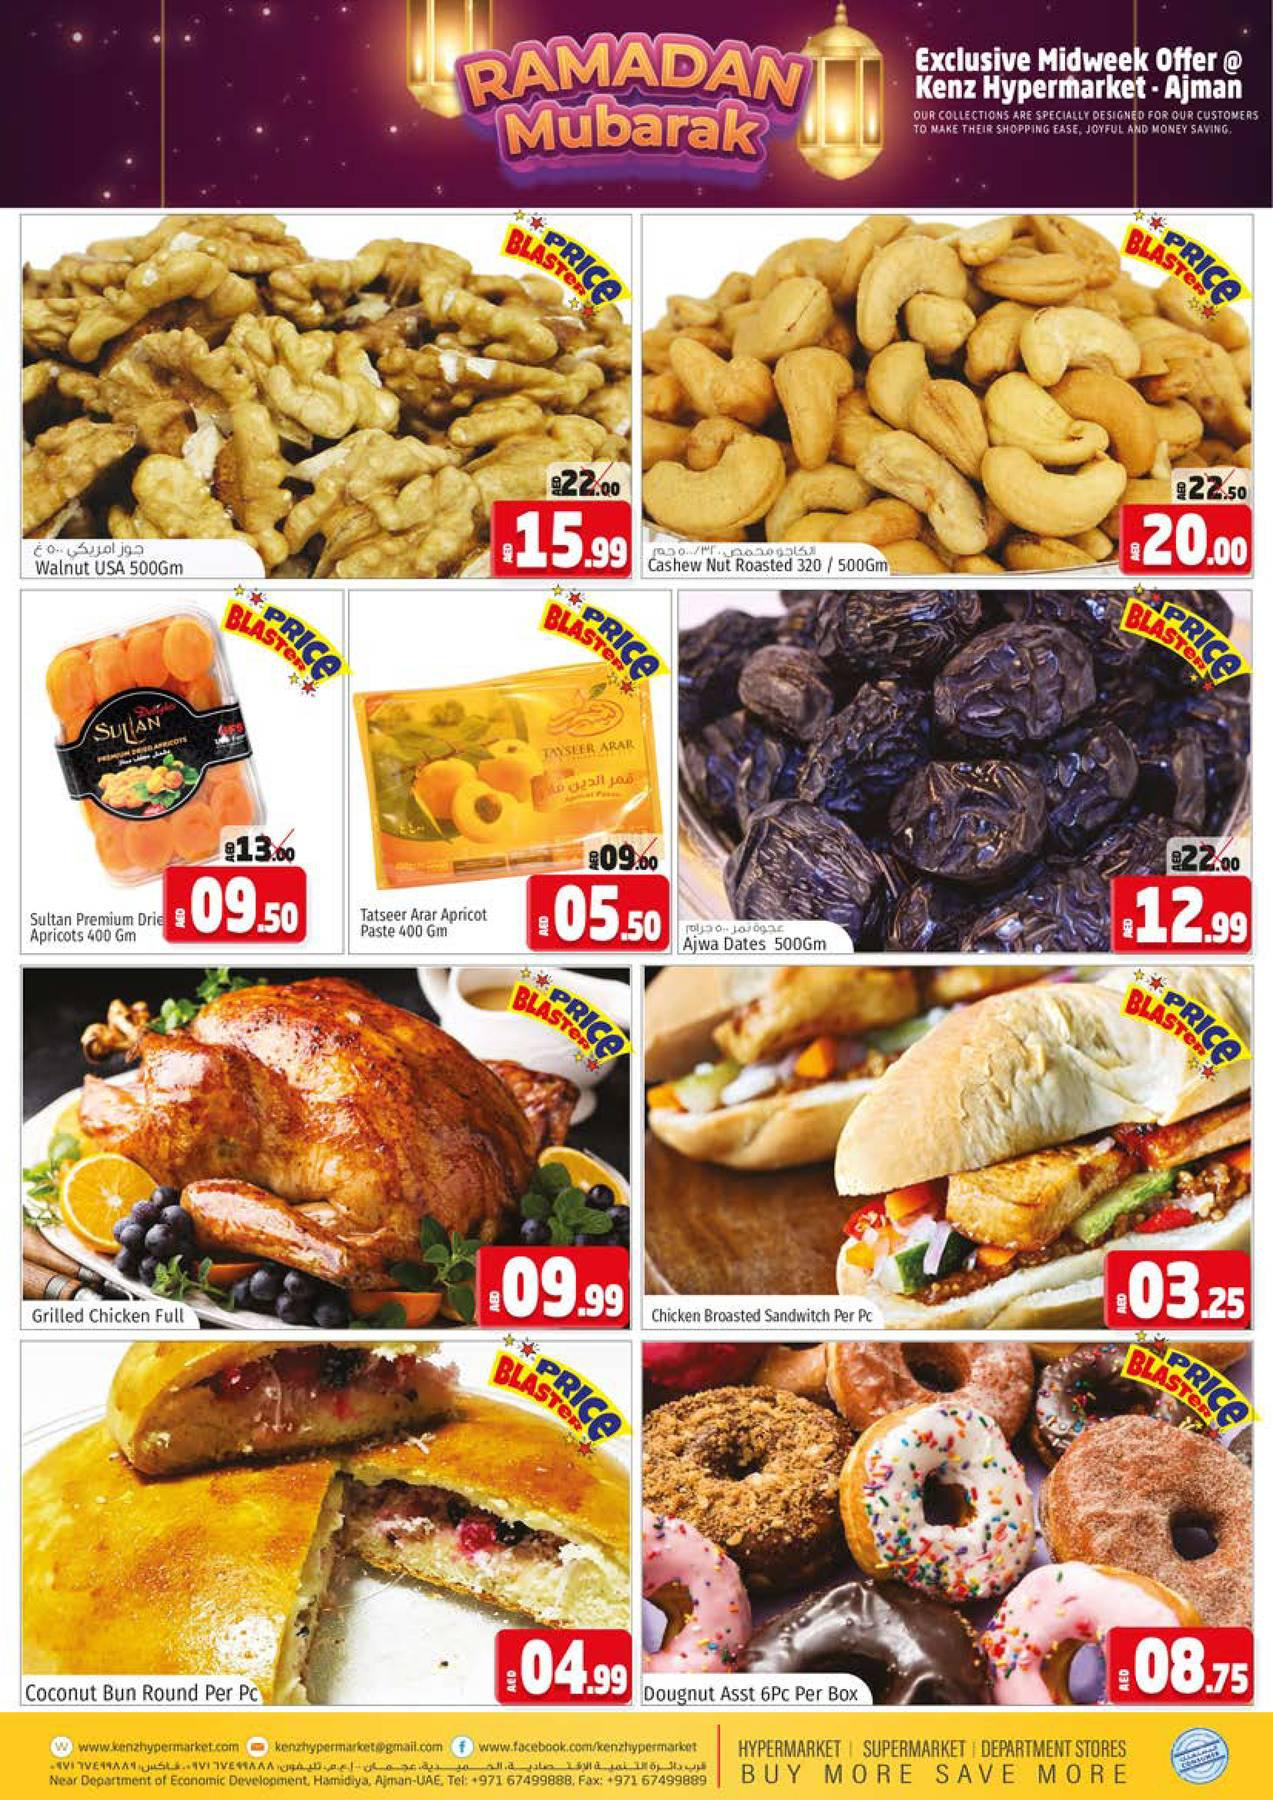text: (648, 537, 891, 584), (636, 1666, 867, 1710), (23, 537, 244, 583), (21, 1672, 271, 1712), (17, 902, 183, 960), (349, 898, 500, 952), (634, 1295, 878, 1328), (15, 1297, 200, 1335), (679, 921, 843, 961)
